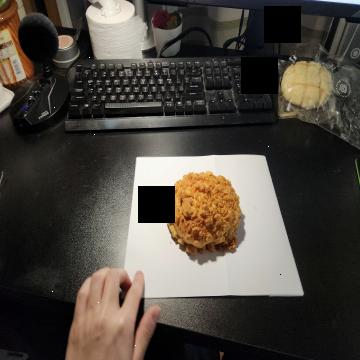soboru_bread: (166, 170, 241, 263)
